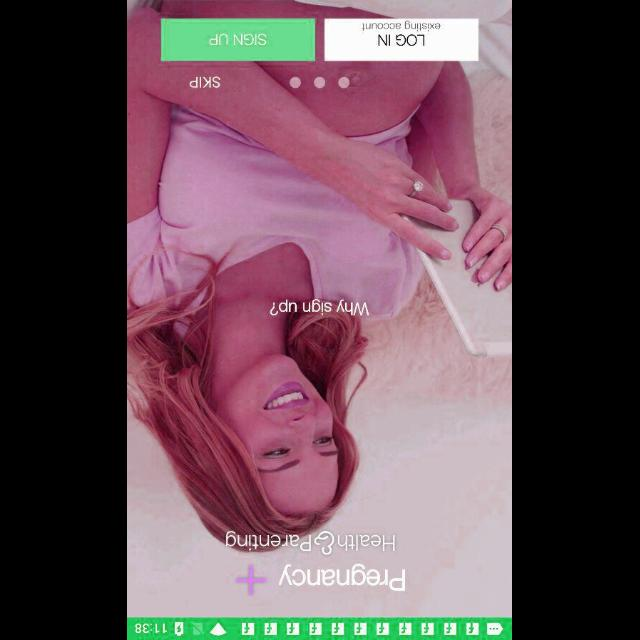backgroundimage: (128, 0, 512, 616)
icon: (236, 565, 268, 595)
image: (227, 530, 396, 554)
pageindicator: (289, 75, 351, 88)
text: (278, 562, 406, 590), (270, 298, 370, 316), (190, 76, 222, 88)
textbutton: (162, 18, 316, 62), (325, 18, 479, 62)
uppertaskbar: (128, 617, 512, 639)
